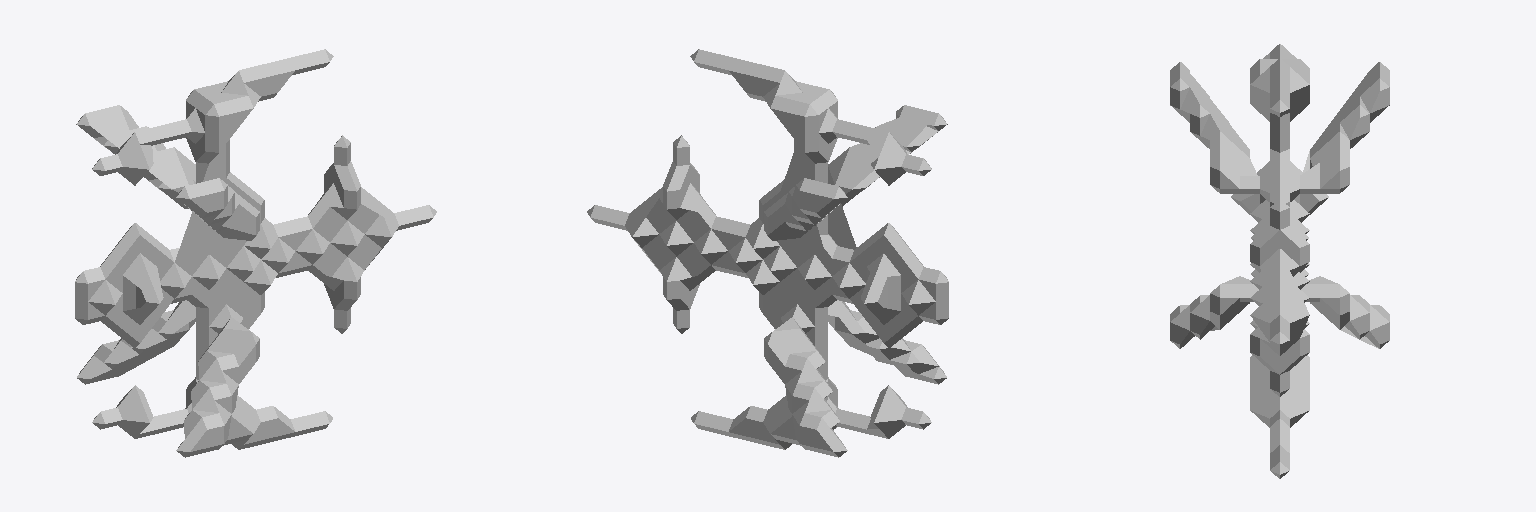
The model's file is enemyS6.obj.
3 views of the same model, side by side, from view 1: azimuth 30°, elevation 25°; view 2: azimuth 150°, elevation 25°; view 3: azimuth 270°, elevation 25° (orthographic).
Bounding box in the file's own units: 2.67 × 2.67 × 1.4.